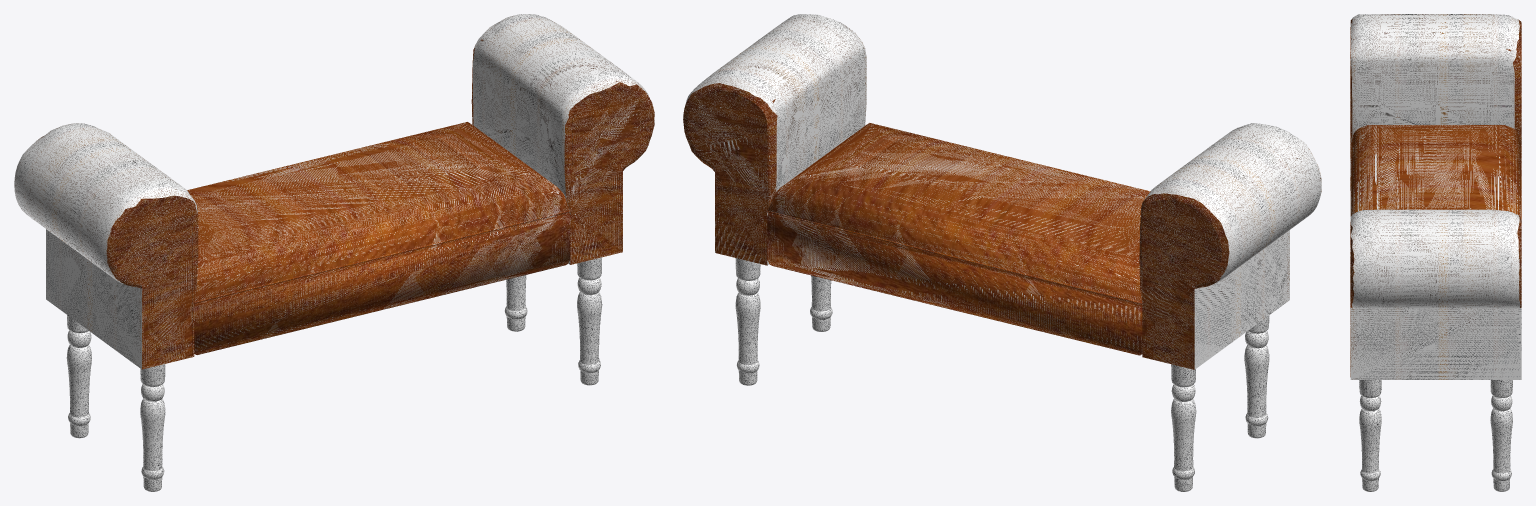
3 views of the same model, side by side, from view 1: azimuth 30°, elevation 25°; view 2: azimuth 150°, elevation 25°; view 3: azimuth 270°, elevation 25° (orthographic). The views are drawn at different scales.
Parts seen in each view (by area): view 1: mesh1_mesh1-geometry, mesh3_mesh3-geometry, mesh4_mesh4-geometry, mesh2_mesh2-geometry; view 2: mesh1_mesh1-geometry, mesh3_mesh3-geometry, mesh4_mesh4-geometry, mesh2_mesh2-geometry; view 3: mesh4_mesh4-geometry, mesh3_mesh3-geometry, mesh1_mesh1-geometry, mesh2_mesh2-geometry.
Boxes of the visible parts, x1,y1,x2,y2 form: mesh1_mesh1-geometry: (187,122,570,354); mesh3_mesh3-geometry: (14,123,198,369); mesh4_mesh4-geometry: (471,14,654,264); mesh2_mesh2-geometry: (66,257,602,491); mesh1_mesh1-geometry: (767,123,1150,355); mesh3_mesh3-geometry: (1139,123,1321,369); mesh4_mesh4-geometry: (683,14,866,265); mesh2_mesh2-geometry: (735,258,1269,491); mesh4_mesh4-geometry: (1350,209,1521,379); mesh3_mesh3-geometry: (1350,14,1521,190); mesh1_mesh1-geometry: (1350,125,1521,219); mesh2_mesh2-geometry: (1359,380,1512,491).
Bounding box in the file's own units: 0.8522 × 0.4561 × 0.2564.
